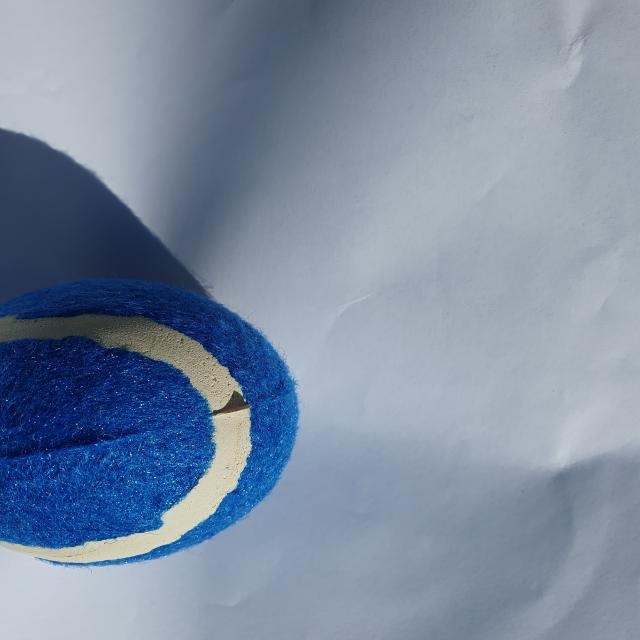blue: (0, 274, 302, 566)
